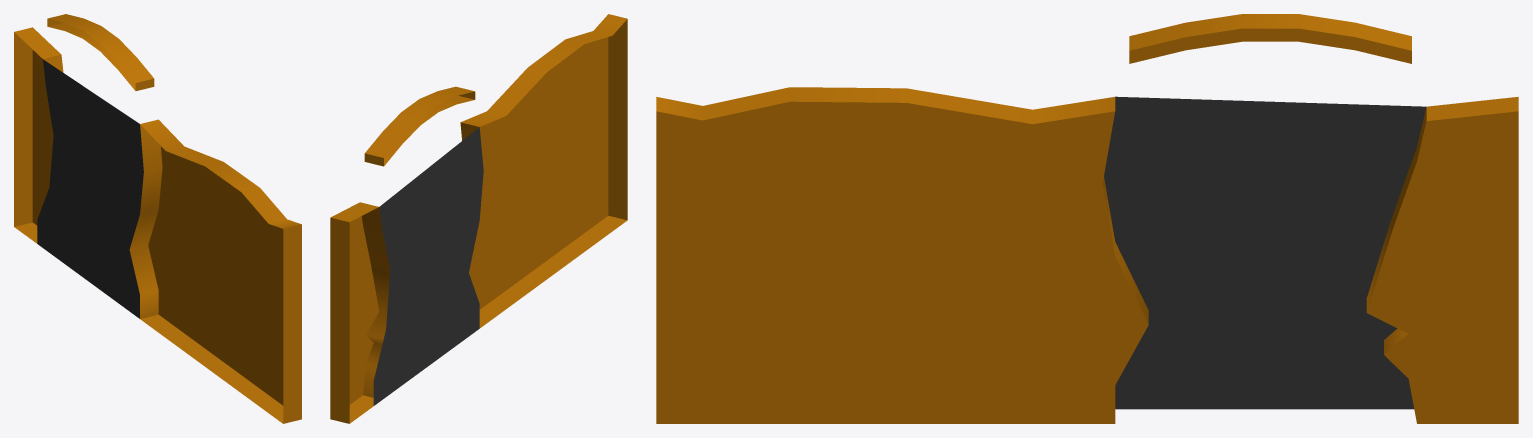
The model's file is chasm_right.fbx.
3 renders of one model, left to right at view 1: azimuth 30°, elevation 25°; view 2: azimuth 150°, elevation 25°; view 3: azimuth 270°, elevation 25°, orthographic. The views are drawn at different scales.
Visible parts, largest first — view 1: chasm_right, chasm_right2, chasm_right1; view 2: chasm_right, chasm_right2, chasm_right1; view 3: chasm_right, chasm_right2, chasm_right1.
Part boxes in pixels (x1,y1,x2,y2): chasm_right: (14,27,301,423); chasm_right2: (37,59,143,318); chasm_right1: (47,14,154,90); chasm_right: (330,14,627,423); chasm_right2: (373,127,483,405); chasm_right1: (364,86,475,166); chasm_right: (656,87,1518,423); chasm_right2: (1104,96,1426,409); chasm_right1: (1129,14,1411,63).
Size of the model in its own units: 1 by 12.65 by 25.
